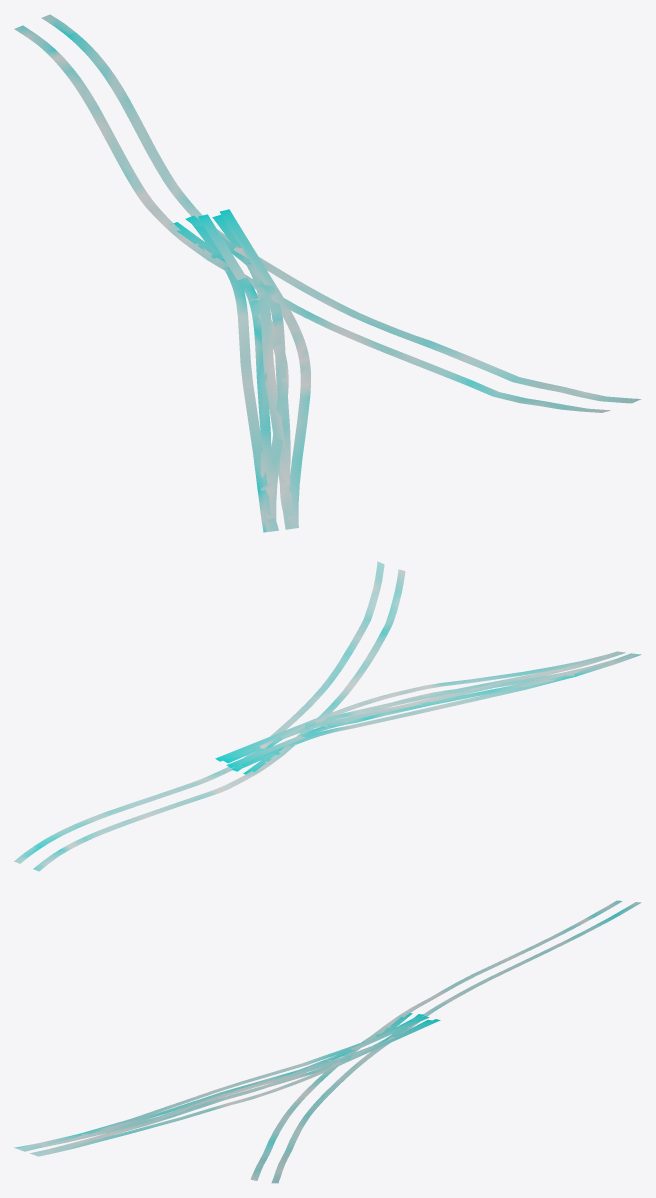
The picture shows the model from 3 angles, top to bottom: view 1: azimuth 30°, elevation 25°; view 2: azimuth 150°, elevation 25°; view 3: azimuth 330°, elevation 25°; orthographic projection. The views are drawn at different scales.
Parts seen in each view (by area): view 1: SpaceCenter_Long3_GenerateRoad_Sand_TireTracks_Narrow_Mesh_x; view 2: SpaceCenter_Long3_GenerateRoad_Sand_TireTracks_Narrow_Mesh_x; view 3: SpaceCenter_Long3_GenerateRoad_Sand_TireTracks_Narrow_Mesh_x.
Boxes of the visible parts, left/top/right/bottom form: SpaceCenter_Long3_GenerateRoad_Sand_TireTracks_Narrow_Mesh_x: left=14, top=14, right=641, bottom=532; SpaceCenter_Long3_GenerateRoad_Sand_TireTracks_Narrow_Mesh_x: left=14, top=561, right=641, bottom=871; SpaceCenter_Long3_GenerateRoad_Sand_TireTracks_Narrow_Mesh_x: left=14, top=900, right=641, bottom=1183.
Bounding box in the file's own units: 2304 × 905 × 107.
